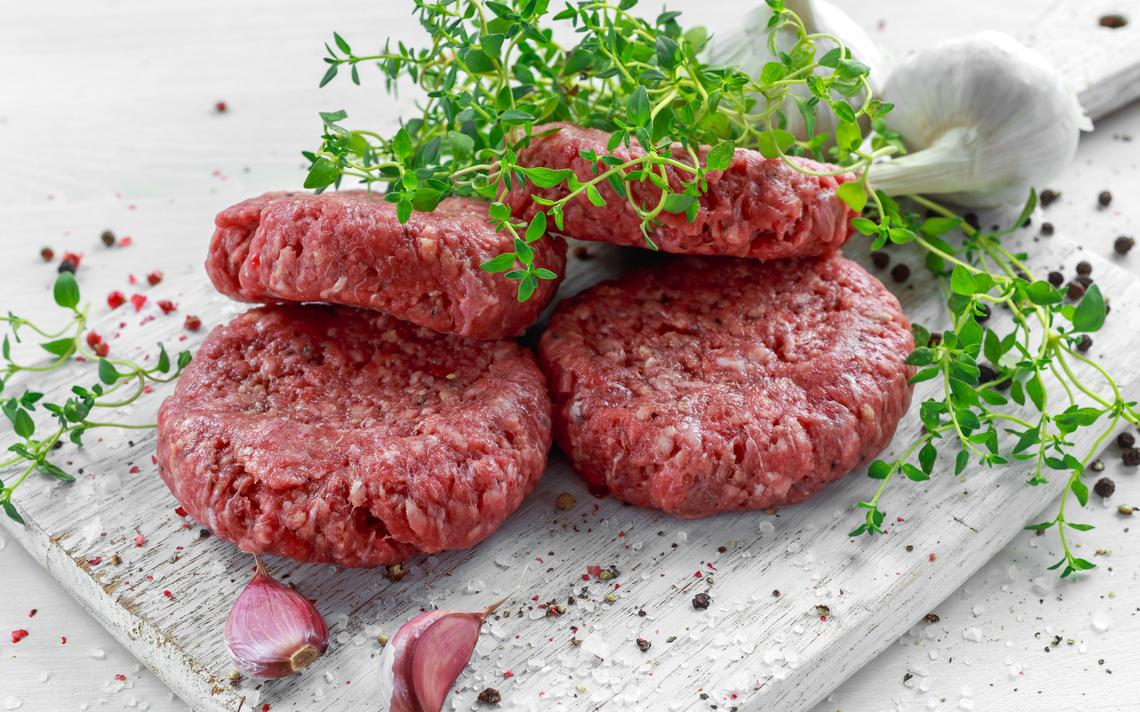ground_beef: (160, 284, 579, 580), (550, 210, 967, 503), (164, 140, 600, 357), (514, 82, 856, 268)
